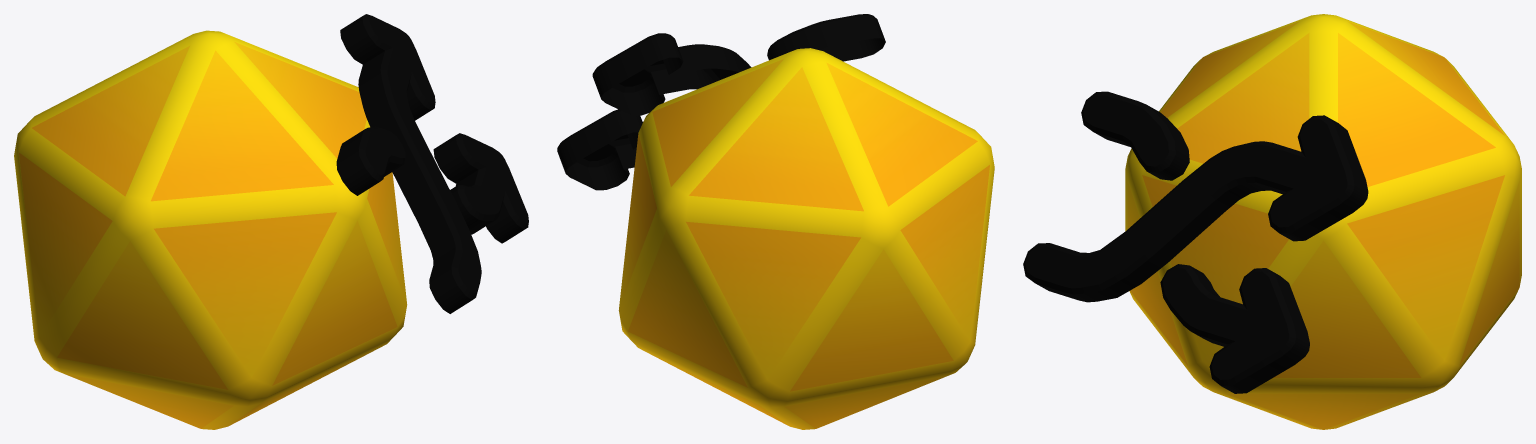
Rendered from booster_dice_arrows_combined.fbx.
3 views of the same model, side by side, from view 1: azimuth 30°, elevation 25°; view 2: azimuth 150°, elevation 25°; view 3: azimuth 270°, elevation 25° (orthographic). The views are drawn at different scales.
Parts seen in each view (by area): view 1: booster_dice_arrows_combined; view 2: booster_dice_arrows_combined; view 3: booster_dice_arrows_combined.
Boxes of the visible parts, x1=… form: booster_dice_arrows_combined: x1=14, y1=14, x2=528, y2=429; booster_dice_arrows_combined: x1=557, y1=14, x2=994, y2=429; booster_dice_arrows_combined: x1=1023, y1=14, x2=1521, y2=429.
Size of the model in its own units: 228 by 191 by 211.
